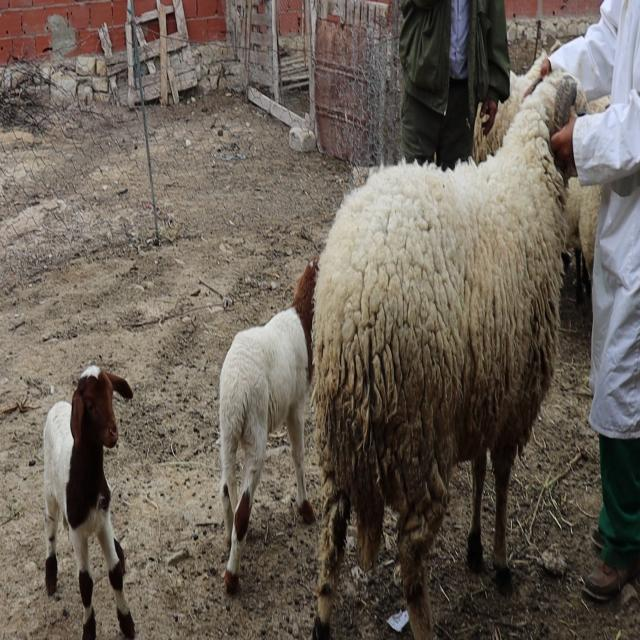Score_5: (312, 69, 588, 639)
